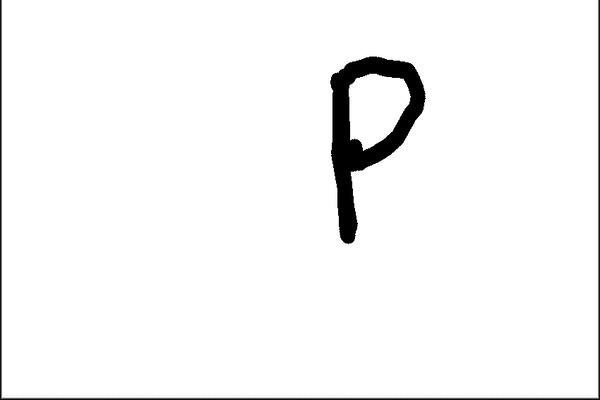P: (317, 45, 431, 256)
